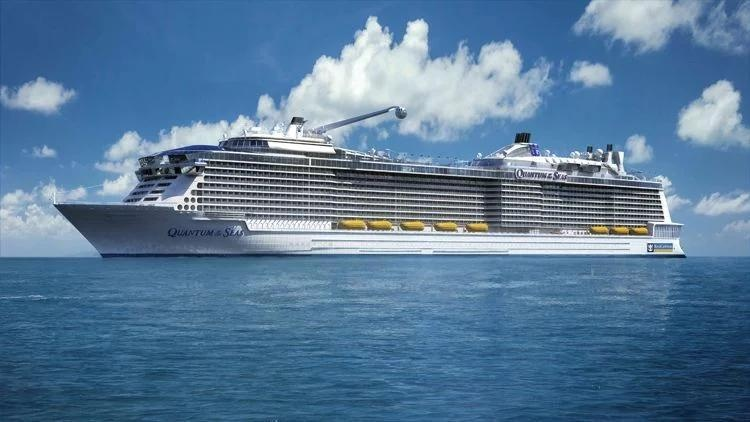youlun: (45, 104, 696, 258)
